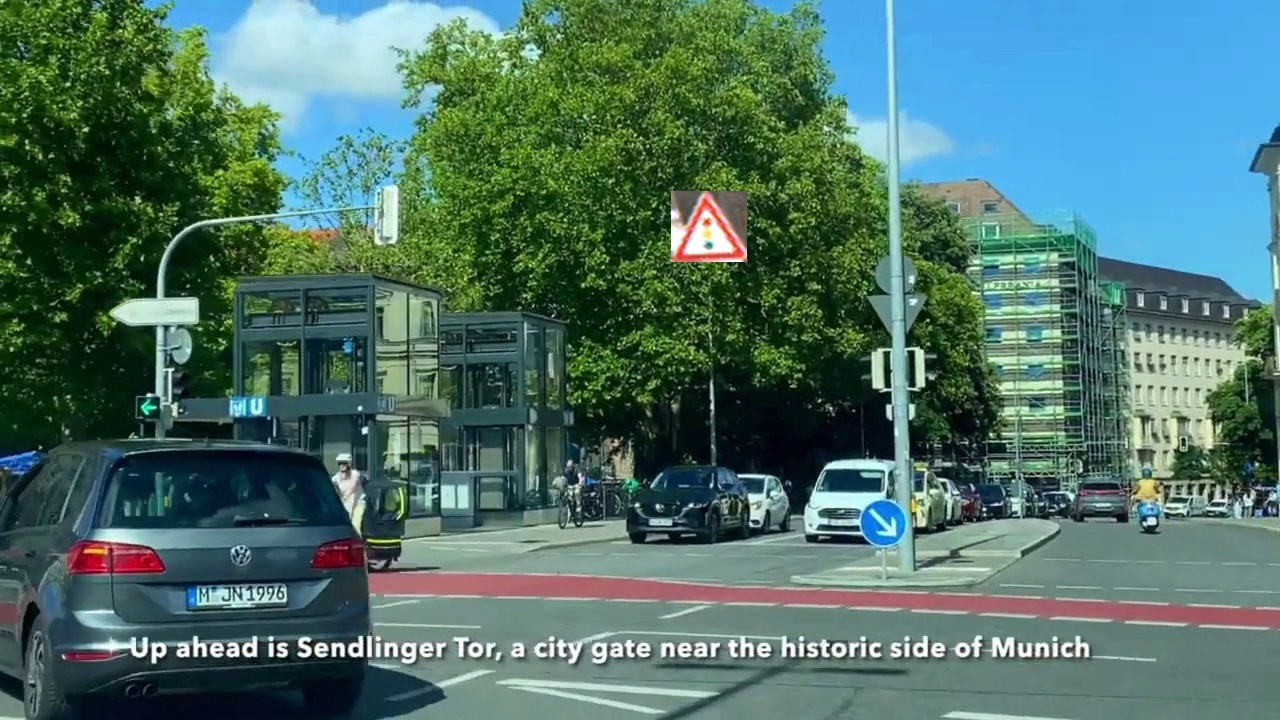Signals: (671, 191, 747, 262)
